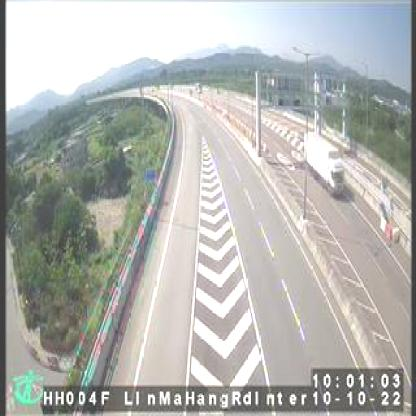Truck: (305, 129, 345, 198)
